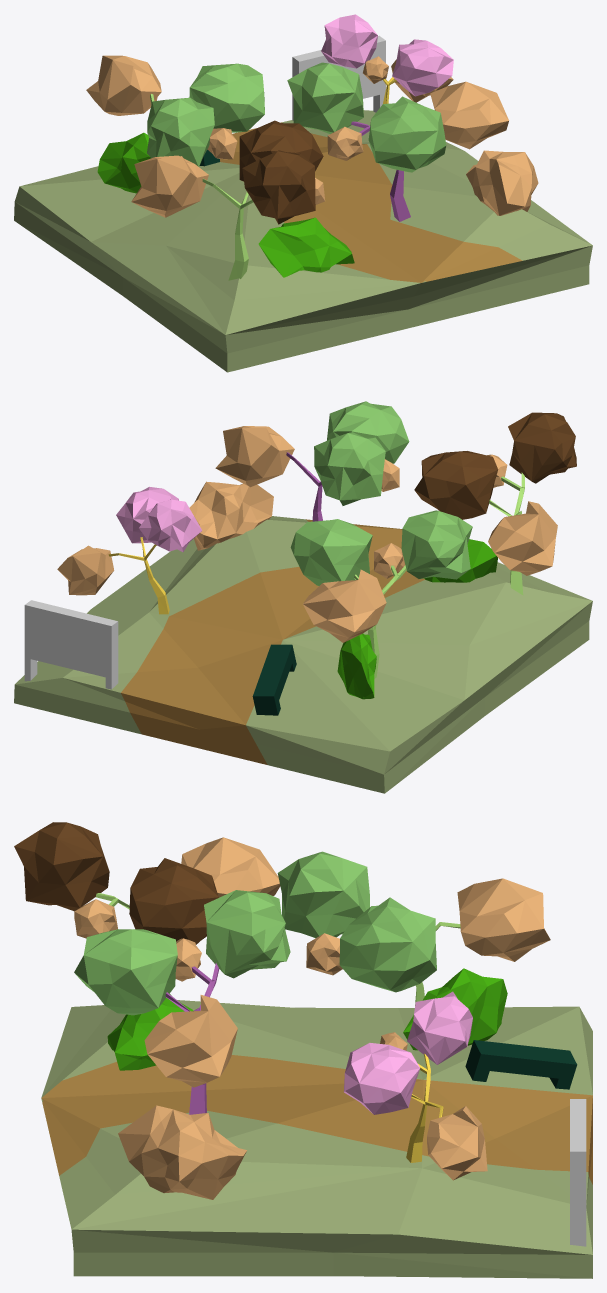
Rendered from building_park.fbx.
3 views of the same model, one above another, from view 1: azimuth 30°, elevation 25°; view 2: azimuth 150°, elevation 25°; view 3: azimuth 270°, elevation 25° (orthographic). The views are drawn at different scales.
Visible parts, largest first — view 1: grass; view 2: grass; view 3: grass.
Boxes of the visible parts, x1,y1,x2,y2 form: grass: [14, 14, 592, 372]; grass: [14, 401, 592, 793]; grass: [14, 822, 592, 1278].
Size of the model in its own units: 55.84 by 28.5 by 55.76.
